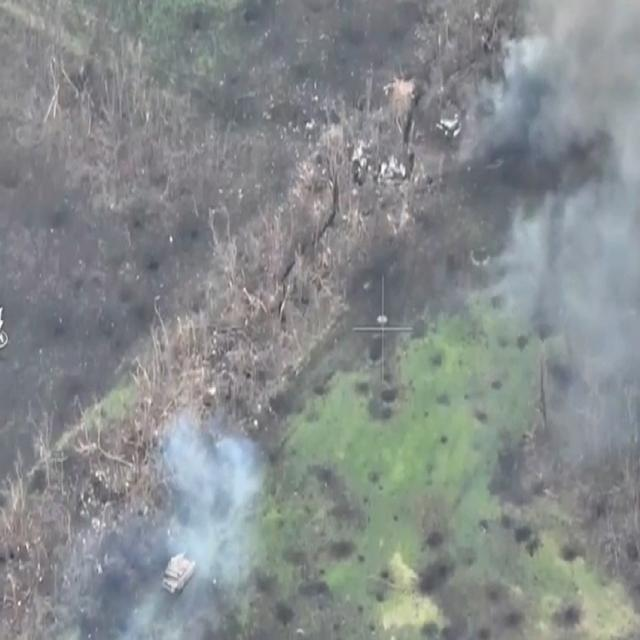cars: (160, 549, 199, 597), (433, 106, 465, 152)
